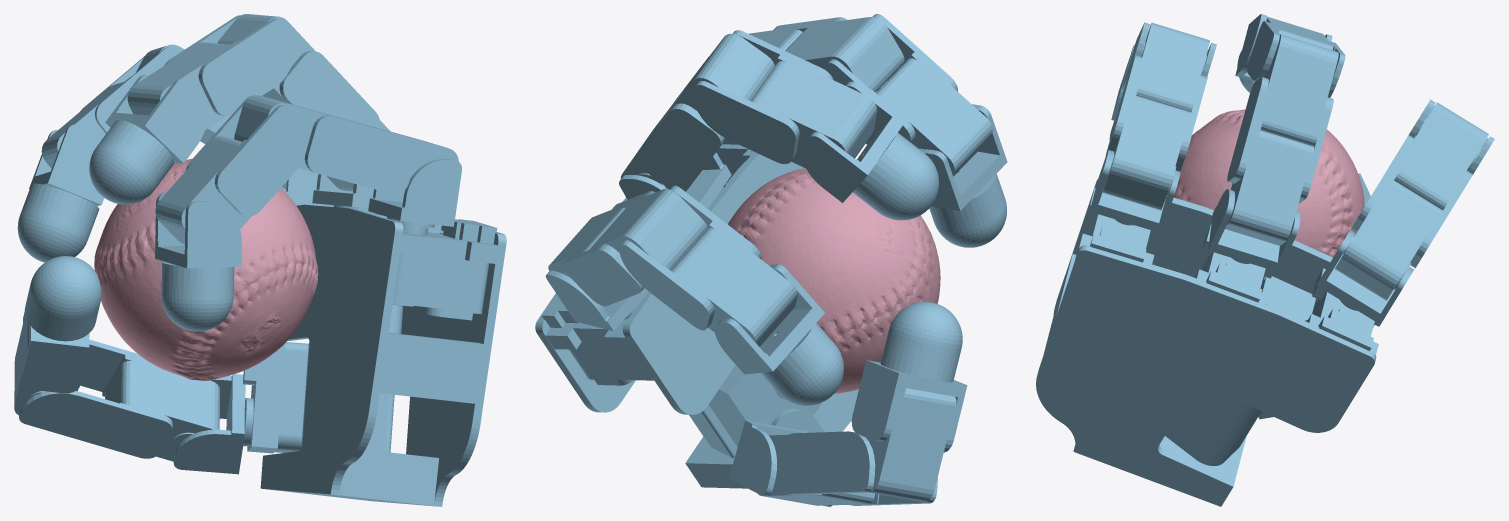
3 renders of one model, left to right at view 1: azimuth 30°, elevation 25°; view 2: azimuth 150°, elevation 25°; view 3: azimuth 270°, elevation 25°, orthographic. The views are drawn at different scales.
Parts seen in each view (by area): view 1: world, baseball.stl; view 2: world, baseball.stl; view 3: world, baseball.stl.
Boxes of the visible parts, x1,y1,x2,y2 form: world: [14, 14, 506, 506]; baseball.stl: [94, 158, 318, 380]; world: [535, 14, 1007, 506]; baseball.stl: [728, 168, 940, 393]; world: [1036, 14, 1494, 506]; baseball.stl: [1173, 109, 1364, 257].
Bounding box in the file's own units: 0.1442 × 0.1746 × 0.1638.
